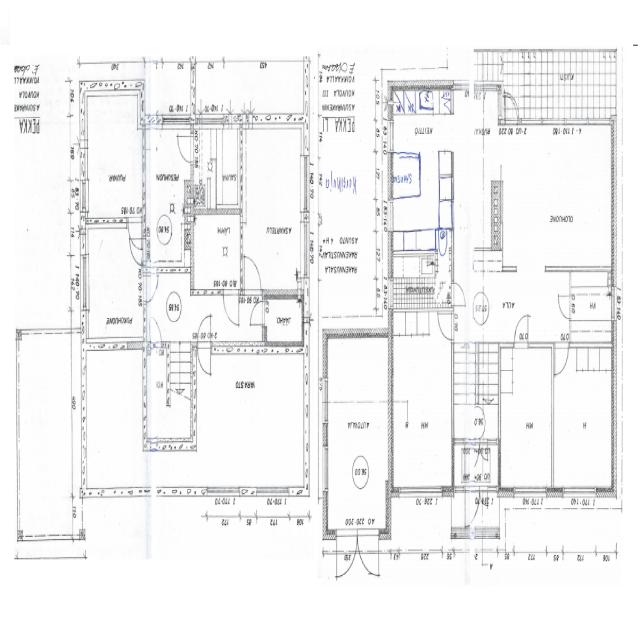door: (355, 529, 381, 581), (333, 532, 358, 580), (240, 251, 263, 295), (126, 218, 144, 262), (463, 487, 481, 529), (512, 310, 531, 349), (221, 290, 240, 329), (175, 127, 193, 166), (142, 267, 160, 305), (553, 339, 570, 378), (196, 335, 212, 376), (464, 442, 480, 480), (248, 297, 266, 330), (436, 308, 453, 342), (196, 313, 212, 348), (147, 314, 162, 348), (556, 291, 572, 322), (388, 199, 403, 232), (451, 280, 466, 310)
window: (560, 481, 596, 506), (397, 482, 442, 500), (253, 111, 293, 131), (78, 250, 90, 314), (299, 147, 310, 213), (512, 482, 546, 503), (101, 483, 134, 502), (320, 440, 330, 496), (520, 118, 543, 133), (452, 78, 473, 94), (480, 82, 499, 98), (610, 285, 616, 324)
zone: (499, 127, 614, 271), (195, 348, 307, 492), (324, 336, 391, 532), (390, 309, 453, 492), (241, 122, 307, 294), (552, 343, 614, 492), (83, 346, 145, 493), (498, 344, 552, 496), (84, 88, 143, 224), (85, 225, 143, 346), (144, 124, 191, 268), (145, 349, 194, 446), (192, 121, 242, 212), (192, 210, 242, 296), (389, 149, 437, 237), (452, 349, 498, 440), (389, 90, 452, 156), (390, 240, 436, 311), (569, 270, 612, 345), (318, 59, 358, 121), (263, 294, 304, 352), (453, 403, 498, 446), (457, 444, 499, 486), (390, 154, 424, 204), (69, 250, 85, 315)
